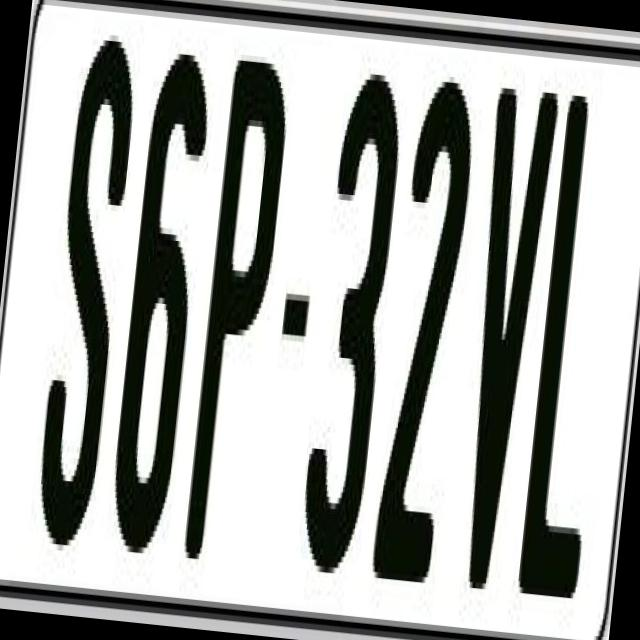2: (370, 62, 482, 571)
3: (292, 65, 404, 598)
6: (104, 40, 214, 549)
L: (516, 77, 634, 587)
P: (177, 59, 289, 598)
S: (28, 38, 145, 554)
V: (442, 87, 558, 603)
